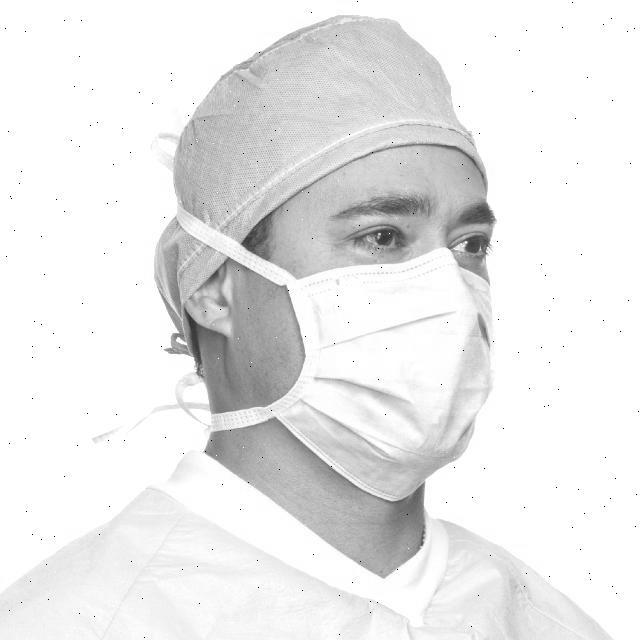fake: (265, 258, 503, 507)
real: (263, 145, 497, 510)
